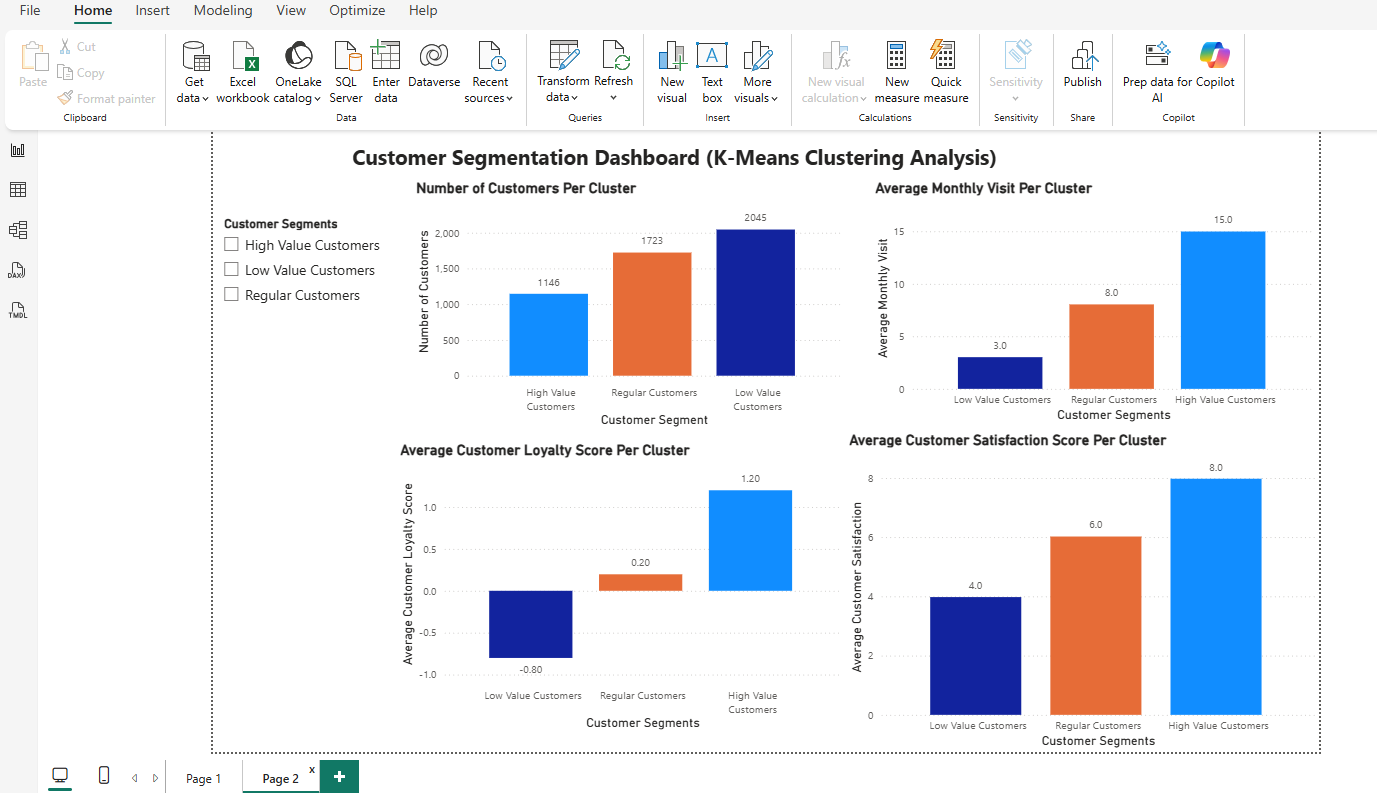

The page's visual inventory and layout, read from the dashboard file:
{"tool":"powerbi","page":{"name":"Page 2","canvas":[1280,720],"ordinal":1},"visuals":[{"type":"clusteredColumnChart","title":"Number of Customers Per Cluster","fields":{"Category":["customer_segments_results.Cluster"],"Y":["CountNonNull(customer_segments_results.Cluster)"]},"box":[230.4,56.7,501.2,291.7],"z":0},{"type":"clusteredColumnChart","title":"Average Monthly Visit Per Cluster","fields":{"Category":["customer_segments_results.Cluster"],"Y":["Avg(customer_segments_results.Visits_Per_Month)"]},"box":[761.7,56.7,518.6,285.9],"z":1},{"type":"clusteredColumnChart","title":"Average Customer Satisfaction Score Per Cluster","fields":{"Category":["customer_segments_results.Cluster"],"Y":["Avg(customer_segments_results.Customer_Satisfaction)"]},"box":[731.6,348.4,548.7,371.6],"z":2},{"type":"clusteredColumnChart","title":"Average Customer Loyalty Score Per Cluster","fields":{"Category":["customer_segments_results.Cluster"],"Y":["Avg(customer_segments_results.Customer_Loyalty_Score)"]},"box":[211.8,360,519.7,339.2],"z":3},{"type":"textbox","box":[156.3,9.3,898.3,47.5],"z":4},{"type":"slicer","fields":{"Values":["customer_segments_results.Cluster"]},"box":[0,94.9,211.8,133.1],"z":5}]}

Visuals, with their boxes on the page's 1280x720 design canvas (x1, y1, x2, y2). These are canvas units, not pixel positions in the 1377x793 screenshot, which may show the page scaled, cropped or inside an application window:
"Number of Customers Per Cluster" clusteredColumnChart: left=230, top=57, right=732, bottom=348
"Average Monthly Visit Per Cluster" clusteredColumnChart: left=762, top=57, right=1280, bottom=343
"Average Customer Satisfaction Score Per Cluster" clusteredColumnChart: left=732, top=348, right=1280, bottom=720
"Average Customer Loyalty Score Per Cluster" clusteredColumnChart: left=212, top=360, right=732, bottom=699
textbox: left=156, top=9, right=1055, bottom=57
slicer - customer_segments_results.Cluster: left=0, top=95, right=212, bottom=228
